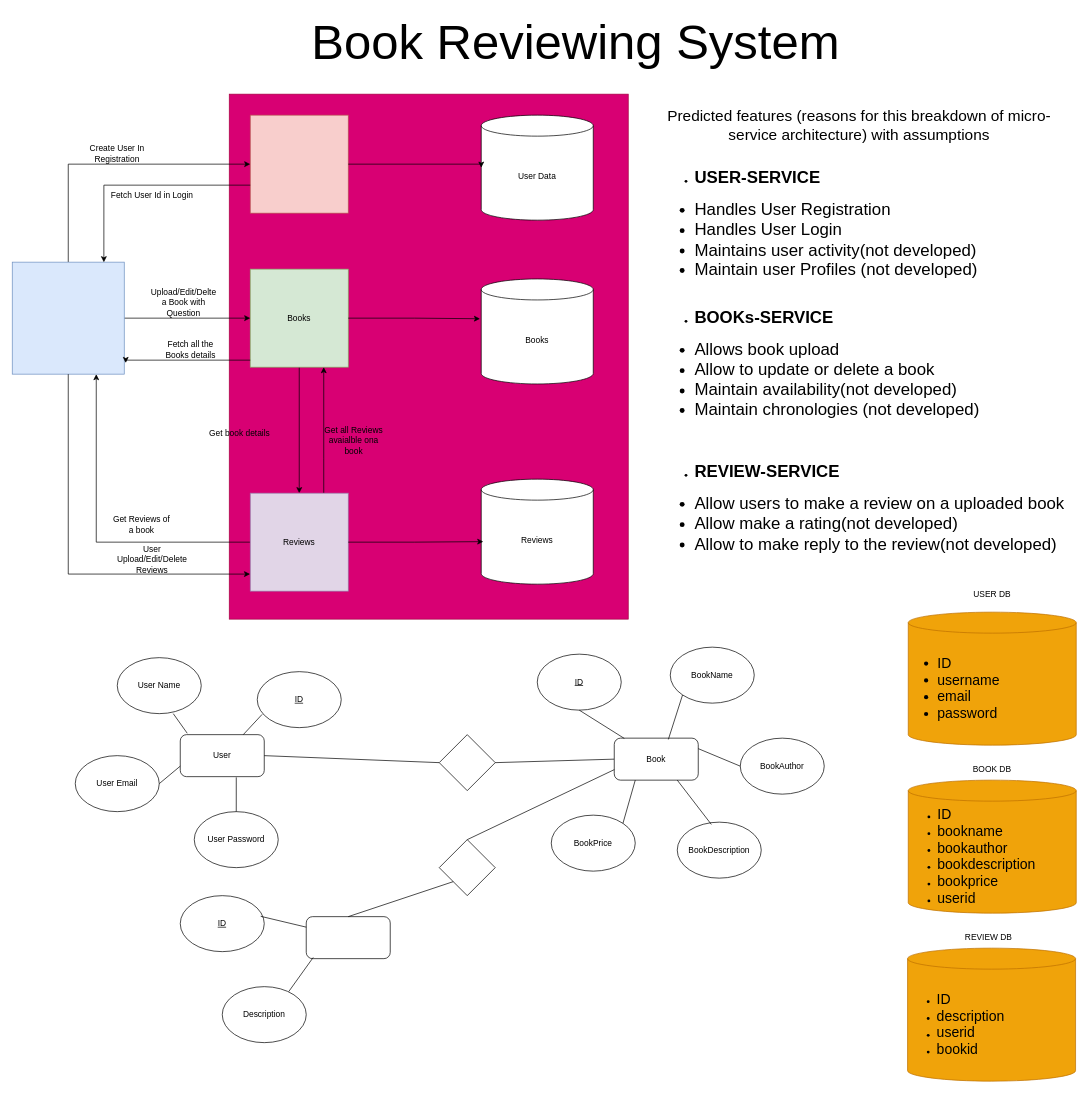
Image size: 1089x1093. Some labels were removed from this diagram. The shapes that lost their labels are listed below. From the top down, each one's box as (x1, y1, x2, y2) in pixels, then its label:
(250, 114, 348, 213): MS1 : User
(12, 261, 124, 374): FrontEnd(React)
(439, 734, 495, 791): Create
(439, 839, 495, 896): Has
(306, 916, 390, 959): Review
